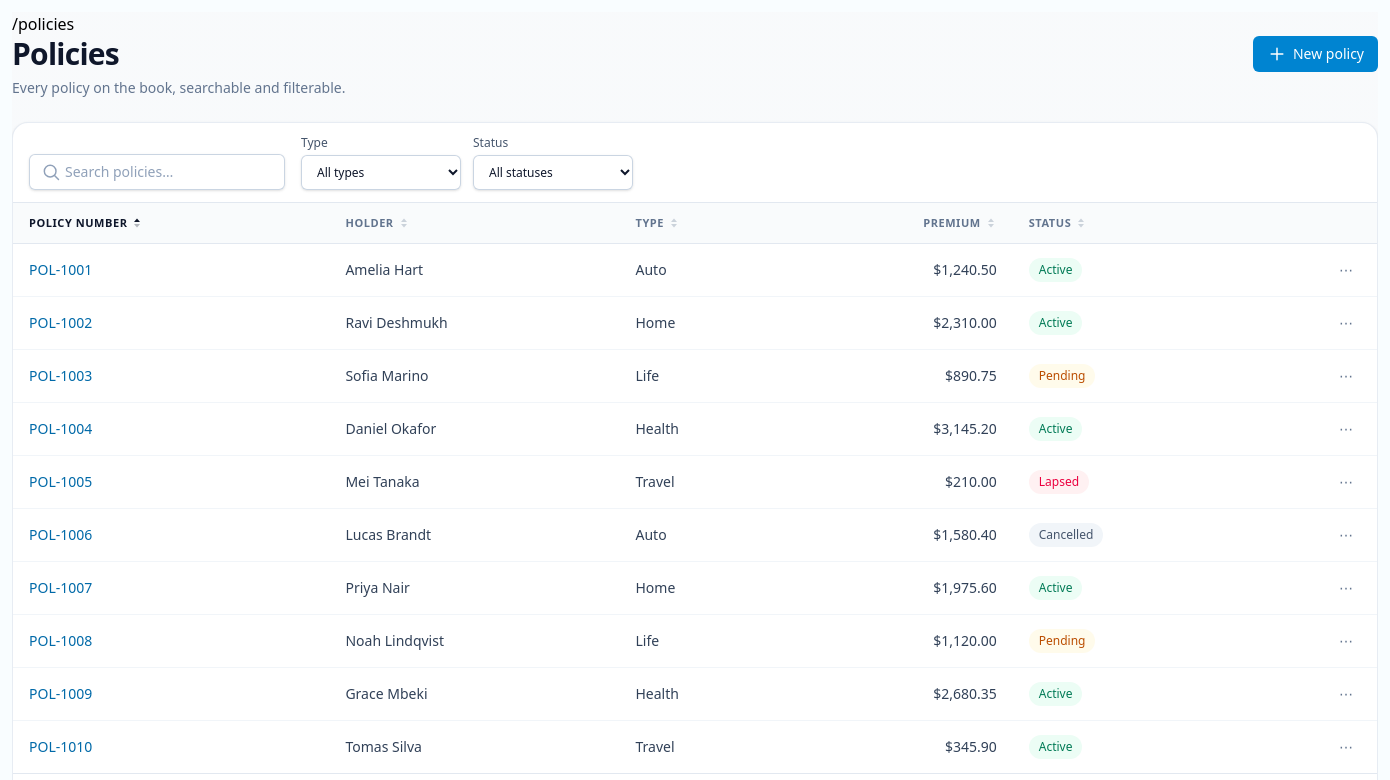
Test: PolicyListPage › filters by status
Expected: the link "POL-1003" is shown, [29,366,92,385]
Select "Pending" in the dropdown labelled "Status" at (553, 172), box [473,155,633,190]
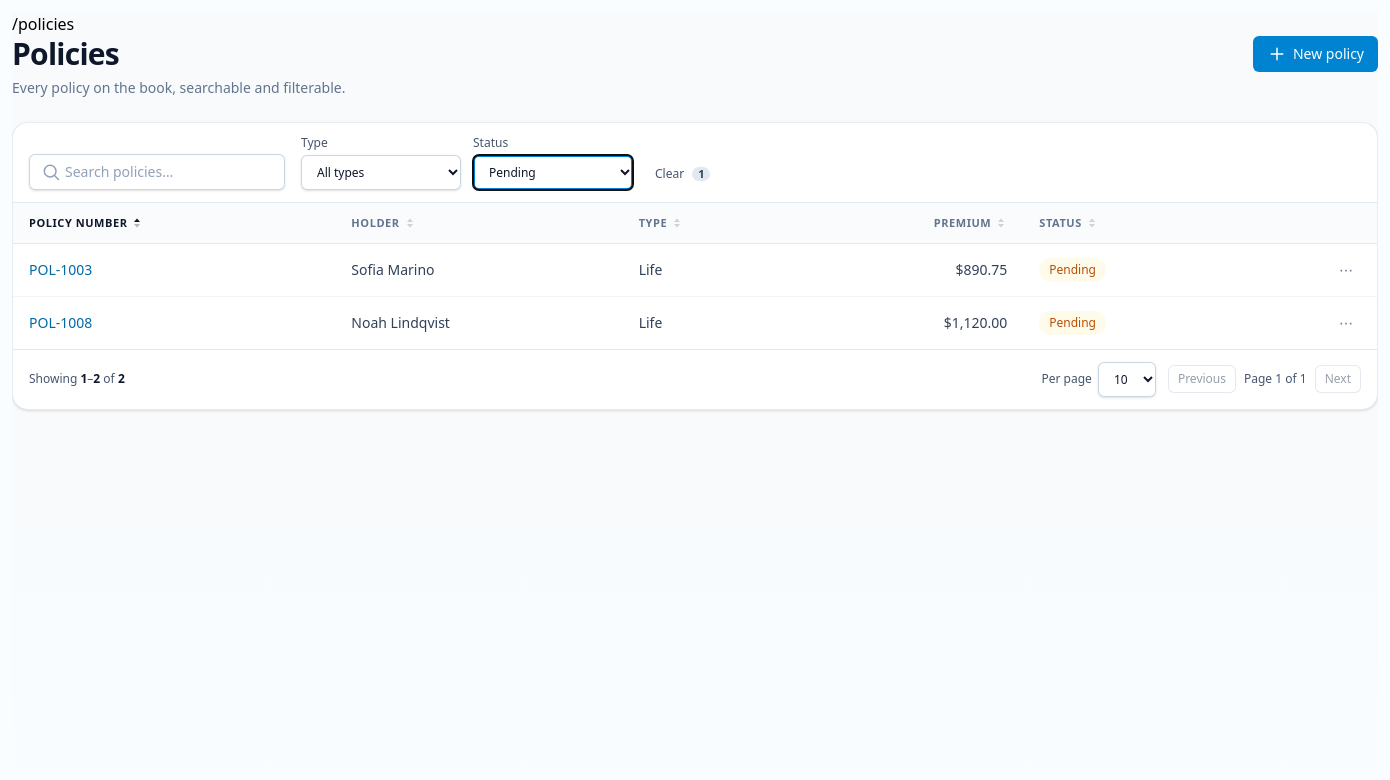
Expected: the link "POL-1003" is shown, [29,260,92,279]
Result: the link "POL-1001" is gone
